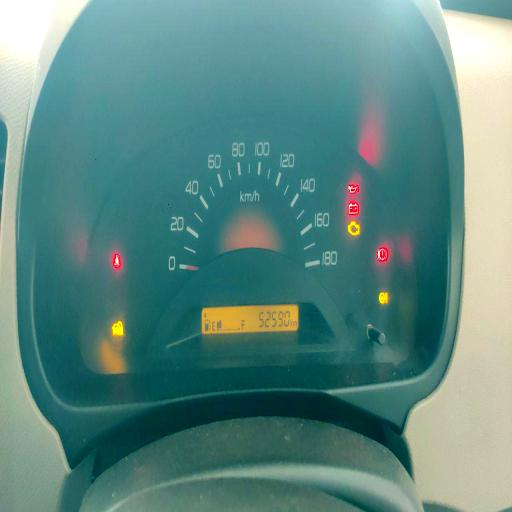belt: (113, 252, 121, 270)
brake_system_fault: (377, 246, 388, 263)
car_closed: (112, 321, 124, 336)
check_engine: (348, 220, 360, 236)
oil: (348, 183, 359, 194)
vehicle_charging: (348, 202, 358, 215)
